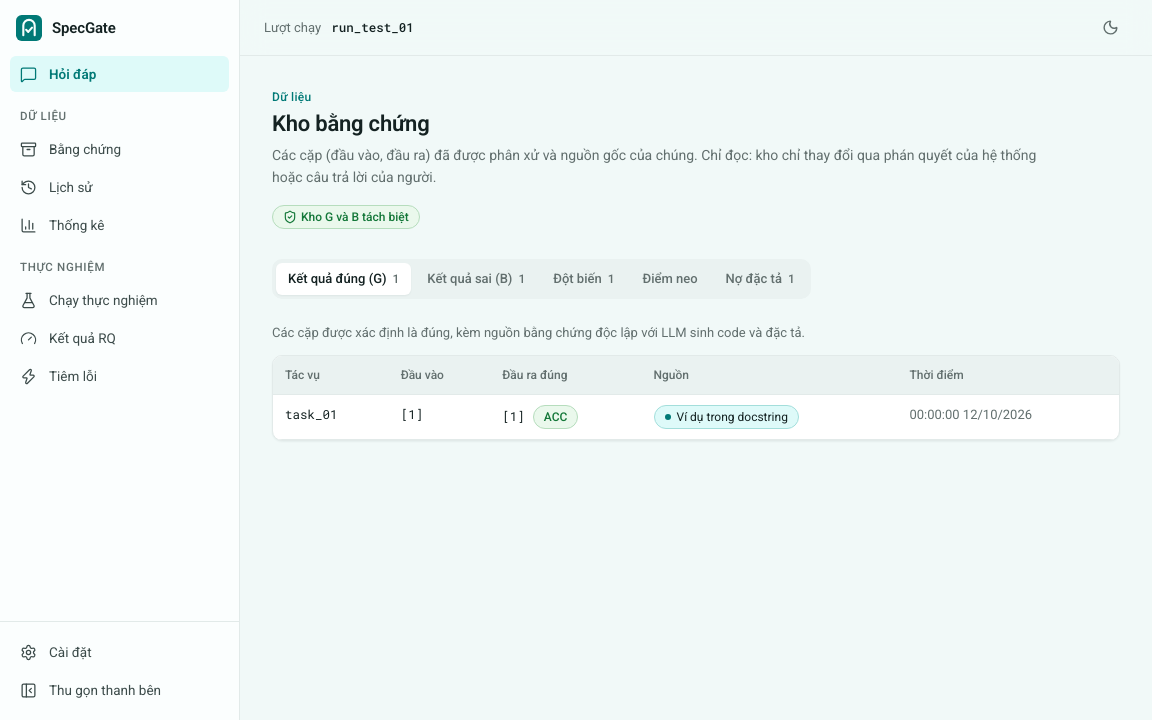
Scenario: Evidence Store Read-Only & Invariant Verification UI › renders Spec Debt tab with debt items and severity badges
Expected: the tab with test id "evidence-tab-G" is shown, [276, 263, 411, 295]
Step 1. Click the tab with test id "evidence-tab-spec_debt" → (760, 279), box [714, 263, 807, 295]
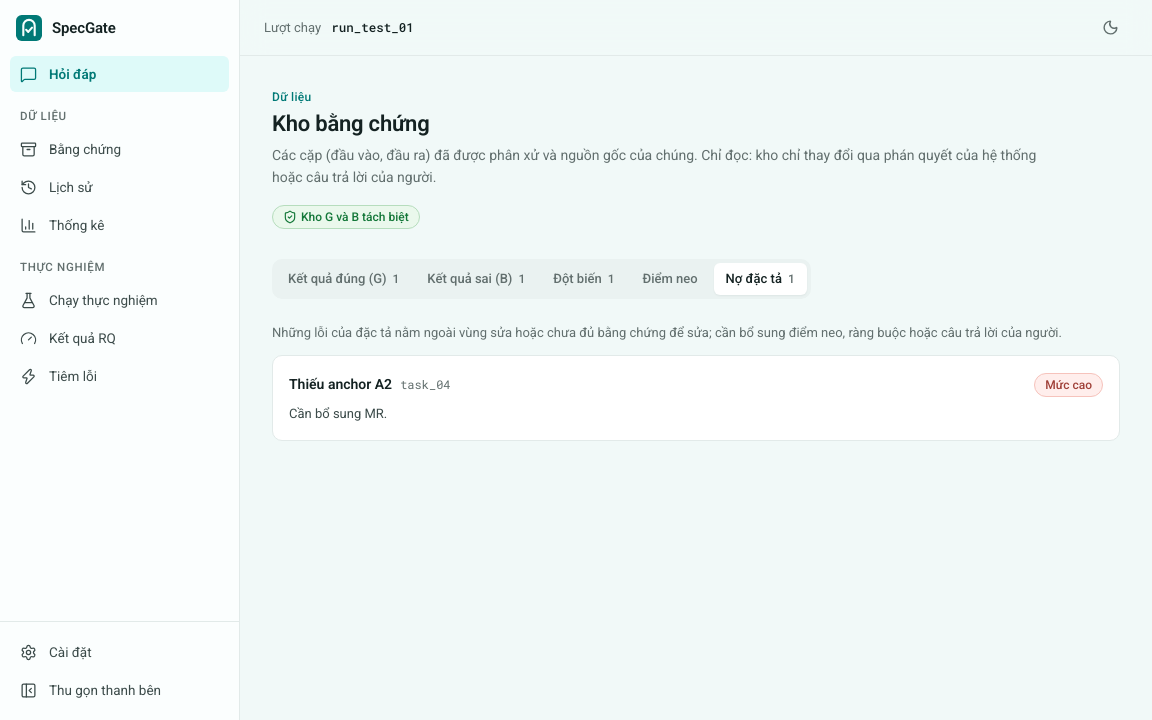
Expected: the element with test id "tab-content-spec_debt" is shown, [272, 323, 1120, 441]
Expected: the element with test id "debt-row-debt_01" is shown, [272, 354, 1120, 441]
